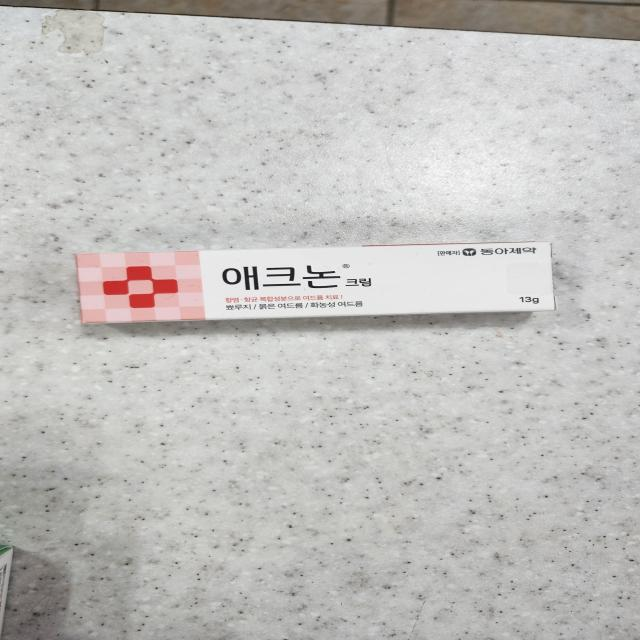box: (76, 242, 555, 323), (0, 545, 13, 636)
